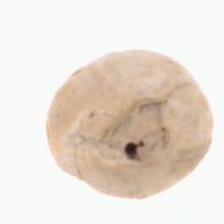L3: (101, 102, 171, 162)
L4: (45, 50, 214, 200)
